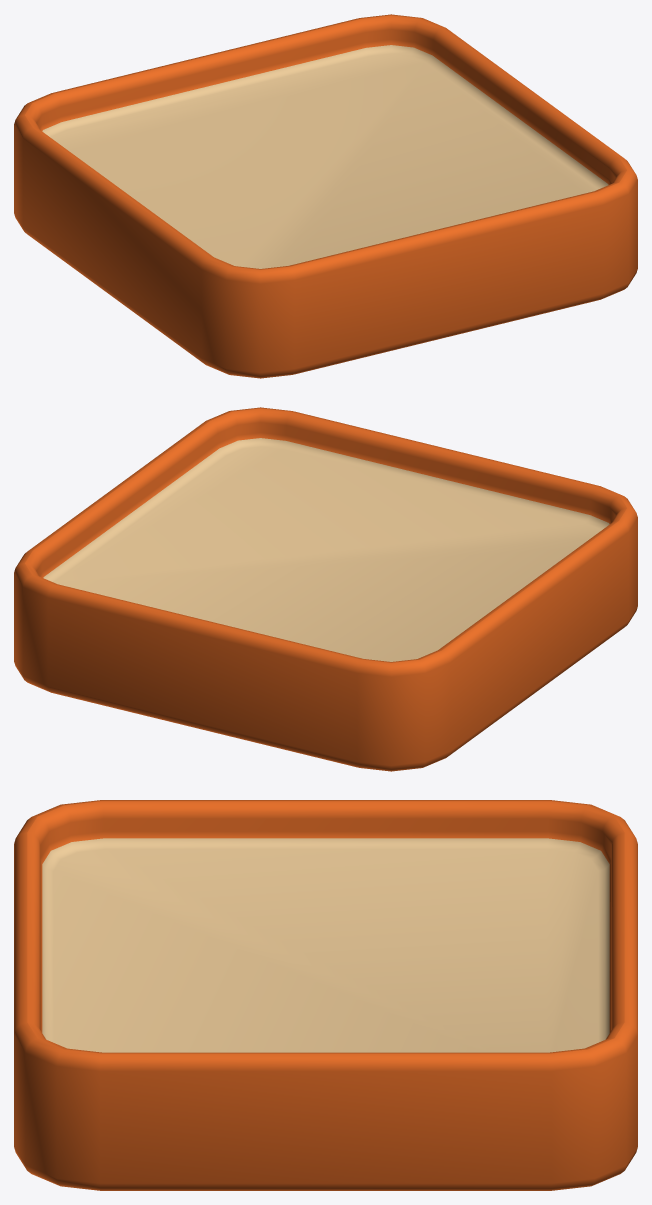
File: cube_half.fbx
The picture shows the model from 3 angles, top to bottom: view 1: azimuth 30°, elevation 25°; view 2: azimuth 150°, elevation 25°; view 3: azimuth 270°, elevation 25°; orthographic projection. The views are drawn at different scales.
Visible parts, largest first — view 1: Cube.024; view 2: Cube.024; view 3: Cube.024.
Part boxes in pixels (x1,y1,x2,y2): Cube.024: [14, 14, 637, 378]; Cube.024: [14, 407, 637, 771]; Cube.024: [14, 800, 637, 1190].
Bounding box in the file's own units: 200 × 48.09 × 200.
